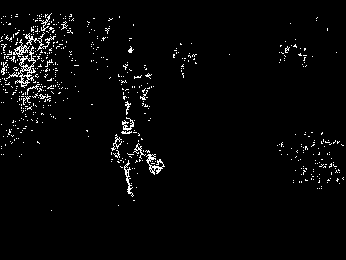person: (111, 116, 166, 202), (135, 63, 154, 115), (119, 60, 136, 116)
